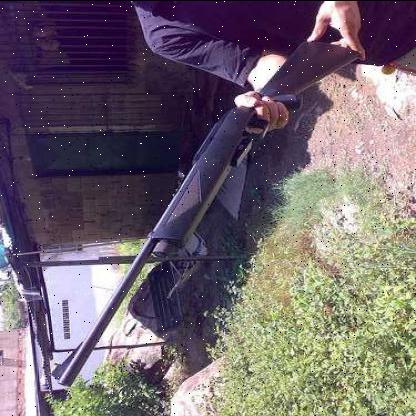rifle: (47, 37, 366, 396)
